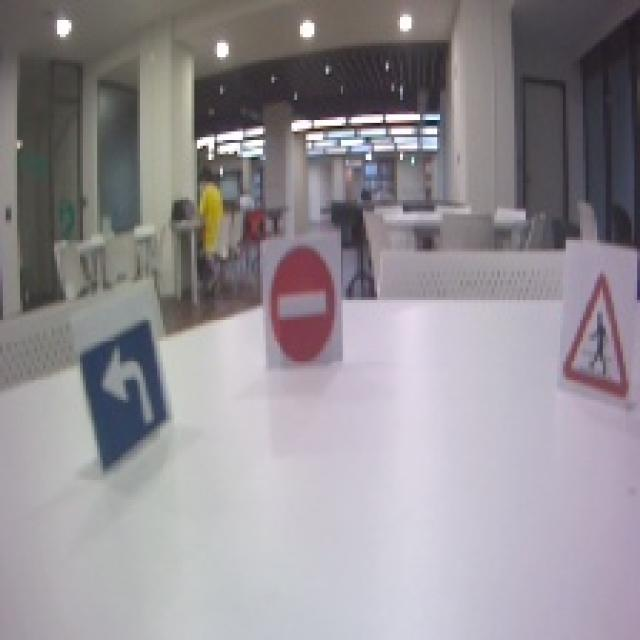DoNotEnterSign: (266, 247, 338, 363)
